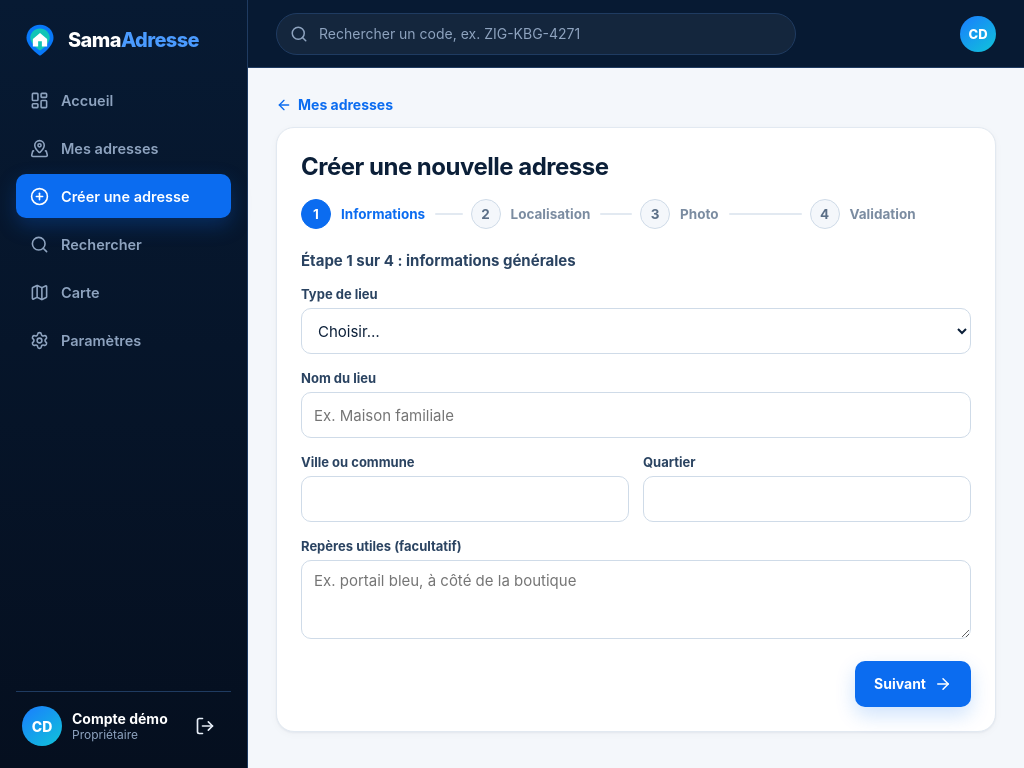
Test: parcours compte et adresses › bloque le passage à l’étape suivante tant que les informations sont incomplètes
Click the button "Suivant" at {"x": 913, "y": 684}, box [855, 661, 971, 707]
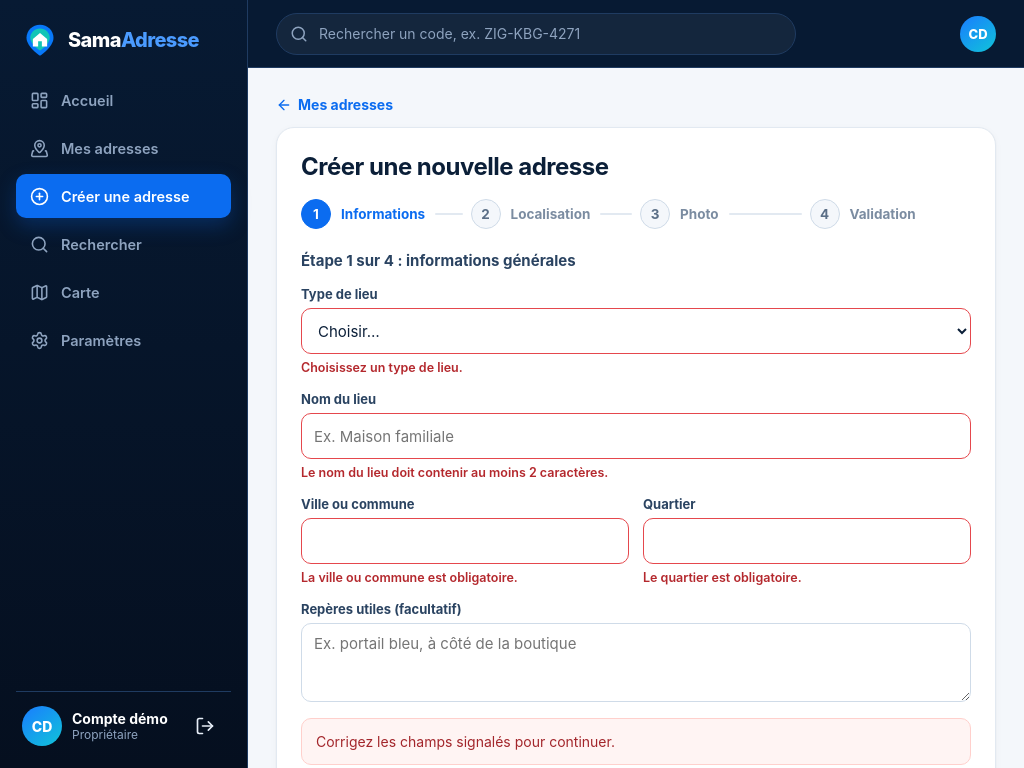
Expected: the heading "Étape 1 sur 4 : informations générales" is shown, [301, 251, 576, 270]
Now the text "Choisissez un type de lieu." is shown, box [301, 360, 463, 375]
